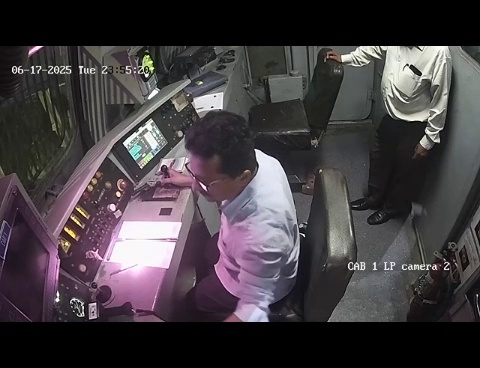horn_inactive: (85, 270, 120, 313)
